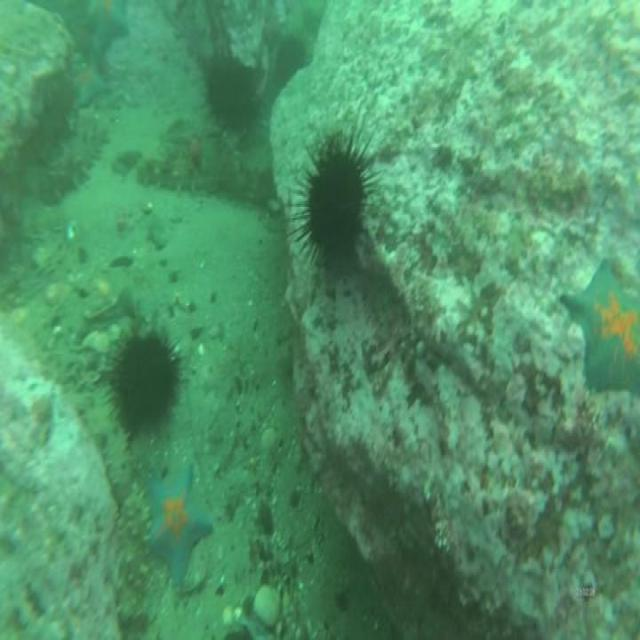echinus: (307, 143, 365, 255), (114, 335, 178, 431), (208, 60, 256, 130), (277, 41, 304, 79)
holothurian: (37, 126, 110, 207), (139, 155, 206, 193)
scallop: (95, 332, 109, 355), (67, 218, 77, 243)
starfish: (560, 259, 640, 394), (144, 463, 212, 591)
